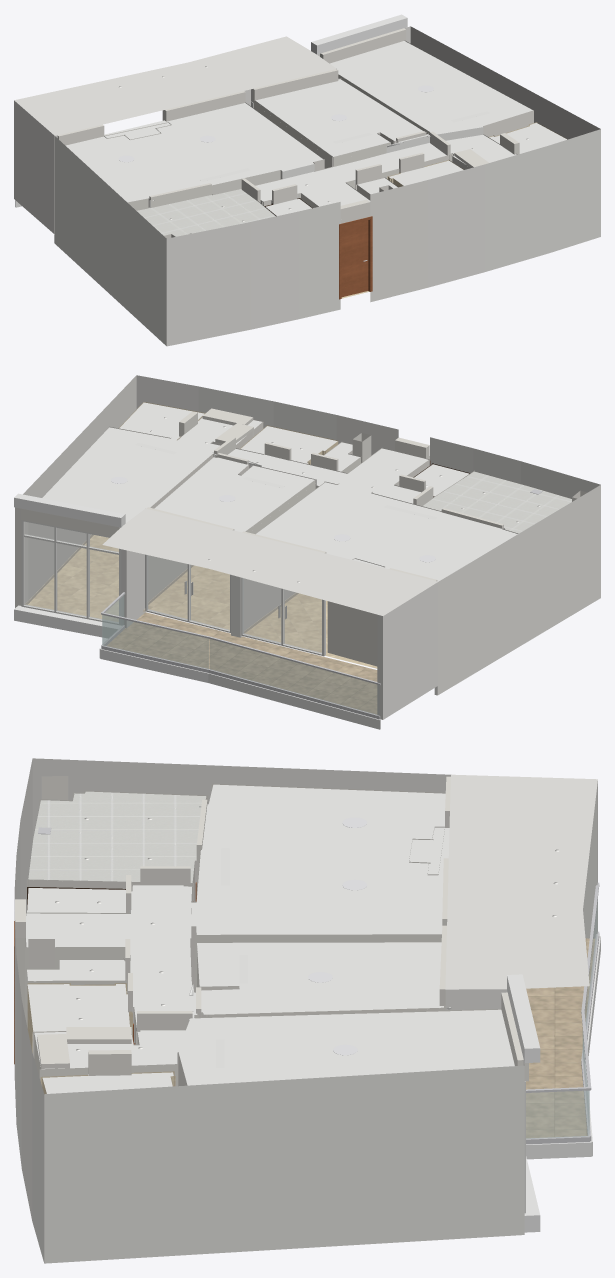
File: apt08.glb
The picture shows the model from 3 angles, top to bottom: view 1: azimuth 30°, elevation 25°; view 2: azimuth 150°, elevation 25°; view 3: azimuth 270°, elevation 25°; orthographic projection. The views are drawn at different scales.
Visible parts, largest first — view 1: A_walls_ext, A_ceiling, A_balcony, A_paint, A_walls, A_wood; view 2: A_ceiling, A_walls_ext, A_balcony, N_glass, A_walls, N_glass_rail, A_floor_marble, A_paint, N_alu, A_floor_marble_diag, N_metal, A_skirting; view 3: A_ceiling, A_walls_ext, A_balcony, A_paint, A_walls, N_glass_rail, N_metal, A_grilles.
Part boxes in pixels (bbox=[...]): A_walls_ext: bbox=[54, 14, 600, 346]; A_ceiling: bbox=[65, 41, 566, 236]; A_balcony: bbox=[14, 36, 336, 234]; A_paint: bbox=[57, 28, 519, 238]; A_walls: bbox=[104, 40, 567, 216]; A_wood: bbox=[339, 216, 372, 299]; A_ceiling: bbox=[42, 402, 571, 581]; A_walls_ext: bbox=[14, 375, 600, 695]; A_balcony: bbox=[99, 508, 438, 729]; N_glass: bbox=[24, 522, 321, 653]; A_walls: bbox=[24, 402, 571, 666]; N_glass_rail: bbox=[102, 595, 379, 715]; A_floor_marble: bbox=[27, 535, 229, 629]; A_paint: bbox=[21, 408, 587, 581]; N_alu: bbox=[21, 520, 325, 656]; A_floor_marble_diag: bbox=[245, 593, 377, 668]; N_metal: bbox=[101, 477, 542, 719]; A_skirting: bbox=[25, 534, 298, 633]; A_ceiling: bbox=[26, 784, 514, 1093]; A_walls_ext: bbox=[14, 758, 540, 1263]; A_balcony: bbox=[445, 774, 600, 1159]; A_paint: bbox=[15, 776, 528, 1081]; A_walls: bbox=[16, 783, 501, 1094]; N_glass_rail: bbox=[526, 899, 597, 1138]; N_metal: bbox=[38, 817, 599, 1144]; A_grilles: bbox=[216, 848, 247, 1067].
Size of the model in its own units: 15.09 by 3.85 by 11.15.
Materials: 43 (19 with a texture image).
